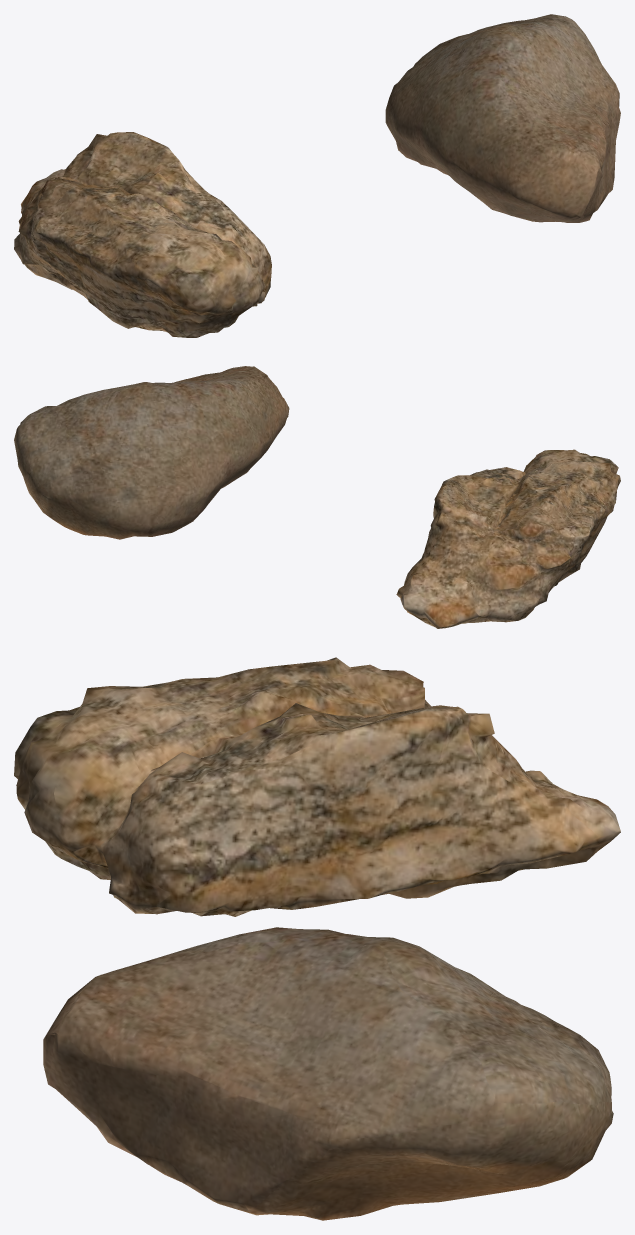
File: namaqualand_boulders_01.glb
The picture shows the model from 3 angles, top to bottom: view 1: azimuth 30°, elevation 25°; view 2: azimuth 150°, elevation 25°; view 3: azimuth 270°, elevation 25°; orthographic projection. The views are drawn at different scales.
Parts seen in each view (by area): view 1: namaqualand_rocks_01_a, namaqualand_rocks_01_b; view 2: namaqualand_rocks_01_a, namaqualand_rocks_01_b; view 3: namaqualand_rocks_01_a, namaqualand_rocks_01_b.
Part boxes in pixels (box(x1,y1,x2,y2)): namaqualand_rocks_01_a: box(385, 14, 620, 222); namaqualand_rocks_01_b: box(14, 132, 271, 337); namaqualand_rocks_01_a: box(14, 366, 289, 539); namaqualand_rocks_01_b: box(396, 449, 620, 628); namaqualand_rocks_01_a: box(43, 927, 613, 1220); namaqualand_rocks_01_b: box(14, 657, 620, 916).
Bounding box in the file's own units: 1.06 × 0.2519 × 0.5851.
1 material, 1 textured.
